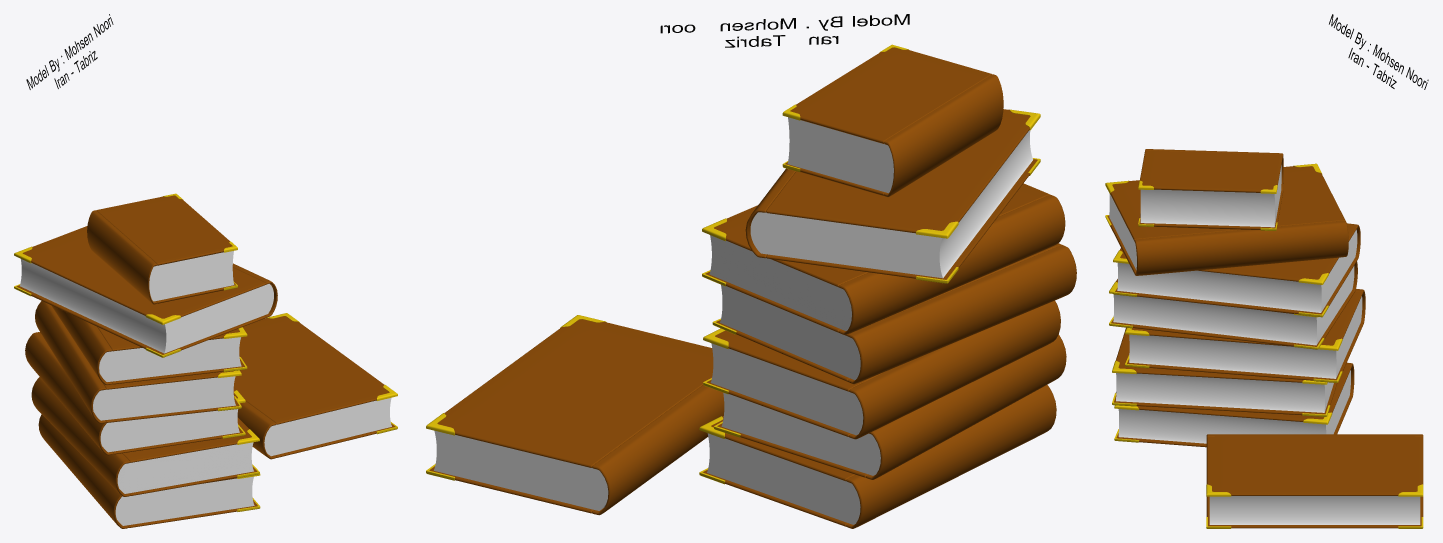
File: Book.obj
3 renders of one model, left to right at view 1: azimuth 30°, elevation 25°; view 2: azimuth 150°, elevation 25°; view 3: azimuth 270°, elevation 25°, orthographic. The views are drawn at different scales.
Parts seen in each view (by area): view 1: Line043, Line044, Line034, Line032, Line008, Line022, Line002, Line010, Line020, Line028, Line038, Line016 (+5 smaller); view 2: Line043, Line044, Line032, Line020, Line014, Line026, Line034, Line001, Line008, Line038, Line002, Line016 (+5 smaller); view 3: Line043, Line032, Line016, Line022, Line028, Line010, Line044, Line038, Line002, Line046, Line026, Line014 (+5 smaller).
Boxes of the visible parts, box(x1,y1,x2,y2) form: Line043: box(233, 316, 395, 459); Line044: box(87, 195, 235, 304); Line034: box(20, 259, 273, 353); Line032: box(16, 226, 277, 354); Line008: box(31, 377, 257, 496); Line022: box(93, 376, 235, 420); Line002: box(115, 476, 254, 525); Line010: box(117, 442, 253, 493); Line020: box(35, 301, 239, 423); Line028: box(99, 337, 241, 381); Line038: box(264, 397, 391, 456); Line016: box(100, 409, 239, 452); Line043: box(429, 319, 724, 515); Line044: box(785, 47, 1003, 196); Line032: box(745, 109, 1037, 279); Line020: box(716, 243, 1076, 384); Line014: box(706, 300, 1060, 439); Line026: box(705, 183, 1065, 334); Line034: box(750, 130, 1033, 278); Line001: box(703, 385, 1056, 528); Line008: box(717, 334, 1066, 479); Line038: box(434, 430, 608, 510); Line002: box(707, 433, 860, 524); Line016: box(710, 343, 863, 435); Line043: box(1206, 434, 1423, 528); Line032: box(1107, 166, 1348, 275); Line016: box(1129, 296, 1362, 378); Line022: box(1113, 266, 1354, 345); Line028: box(1117, 229, 1357, 312); Line010: box(1116, 373, 1333, 412); Line044: box(1139, 149, 1283, 229); Line038: box(1209, 496, 1420, 524); Line002: box(1118, 370, 1350, 443); Line046: box(1140, 165, 1281, 227); Line026: box(1115, 223, 1360, 314); Line014: box(1127, 289, 1365, 380).
Bounding box in the file's own units: 143 × 154 × 122.
